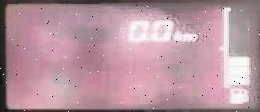-: (144, 36, 150, 43)
0: (124, 17, 145, 40), (150, 17, 169, 40)
X: (182, 31, 195, 41), (173, 29, 182, 43)
